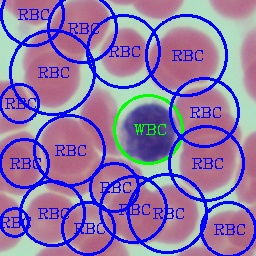RBC: (100, 182, 170, 250), (18, 47, 86, 112), (35, 110, 99, 178), (175, 132, 240, 196), (73, 82, 124, 158), (84, 150, 148, 210), (148, 178, 203, 246), (46, 0, 111, 57), (18, 186, 78, 246), (168, 80, 232, 136), (180, 104, 244, 160), (95, 22, 152, 82), (0, 127, 46, 200), (19, 22, 83, 74), (60, 197, 116, 252), (163, 26, 220, 79), (147, 35, 200, 89), (196, 207, 252, 255), (0, 74, 38, 139), (40, 157, 95, 201)
WBC: (112, 96, 184, 168)
